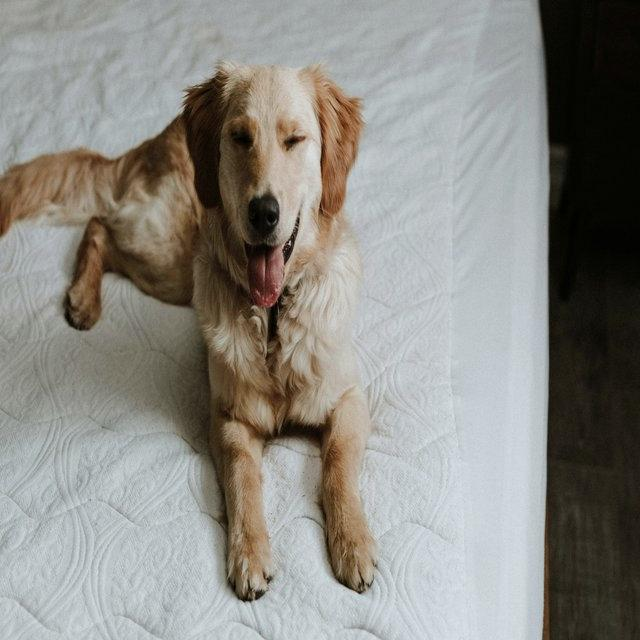retriever: (2, 58, 380, 602)
